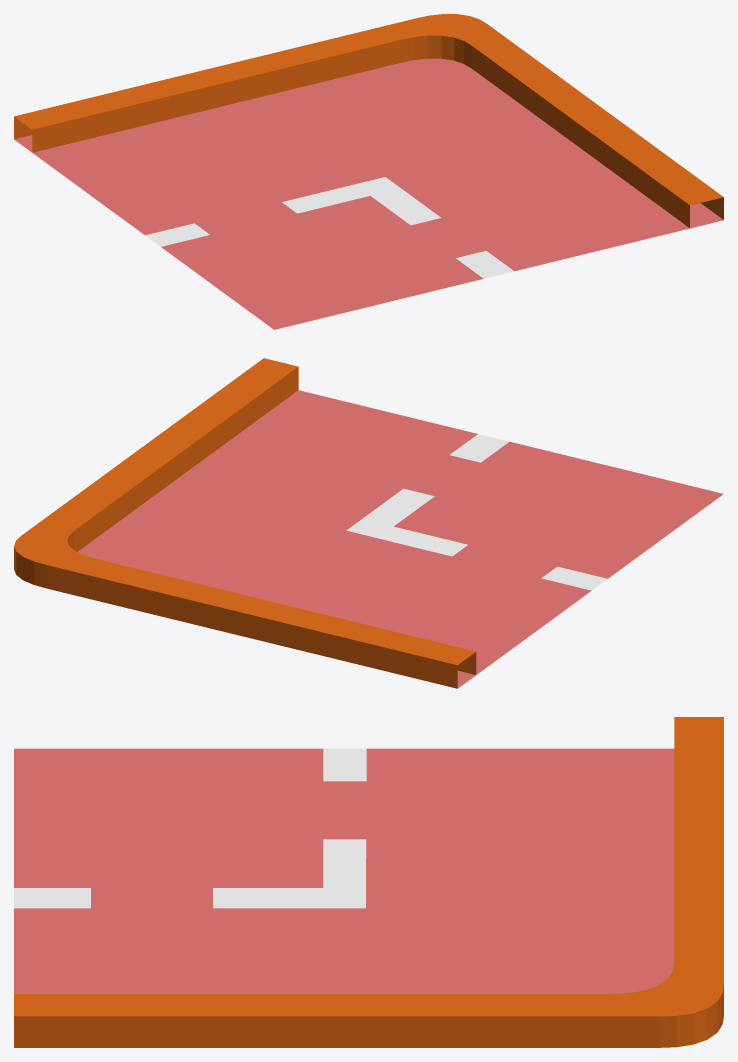
Rendered from BikeLanePrefab.fbx.
3 renders of one model, top to bottom at view 1: azimuth 30°, elevation 25°; view 2: azimuth 150°, elevation 25°; view 3: azimuth 270°, elevation 25°, orthographic. The views are drawn at different scales.
Visible parts, largest first — view 1: bicycle road rotate; view 2: bicycle road rotate; view 3: bicycle road rotate.
Part boxes in pixels (box(x1,y1,x2,y2)): bicycle road rotate: box(14, 14, 723, 329); bicycle road rotate: box(14, 358, 723, 688); bicycle road rotate: box(14, 717, 723, 1047).
Size of the model in its own units: 200 by 9.76 by 200.
